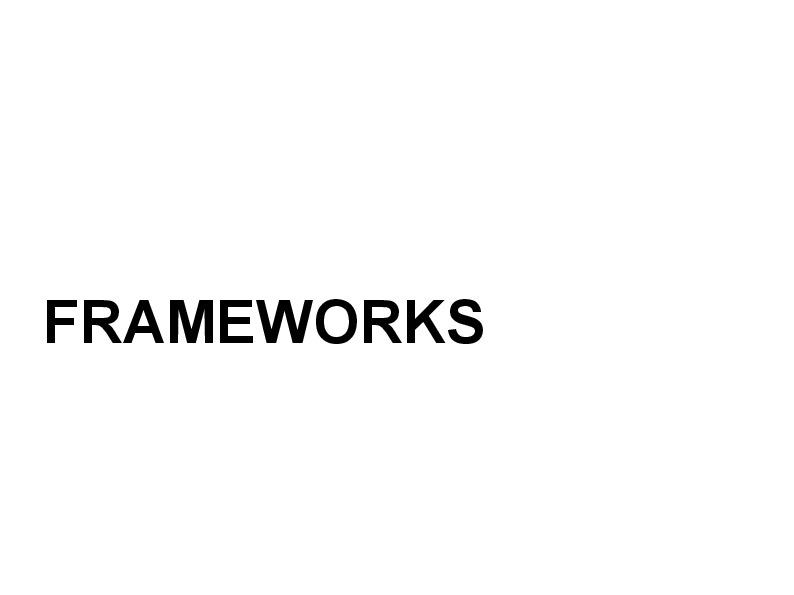title: (40, 276, 515, 371)
